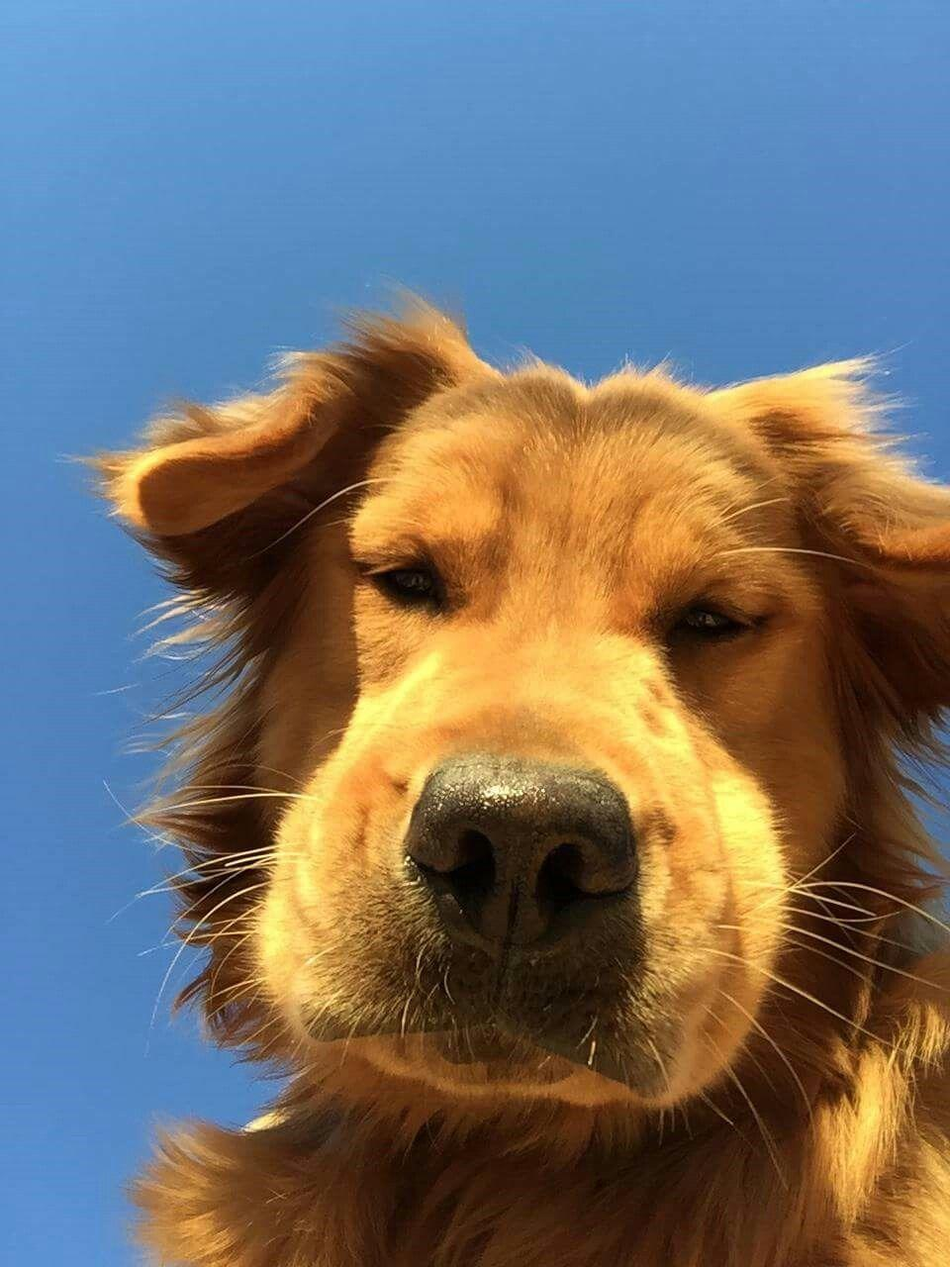adult_dog: (91, 291, 950, 1267)
